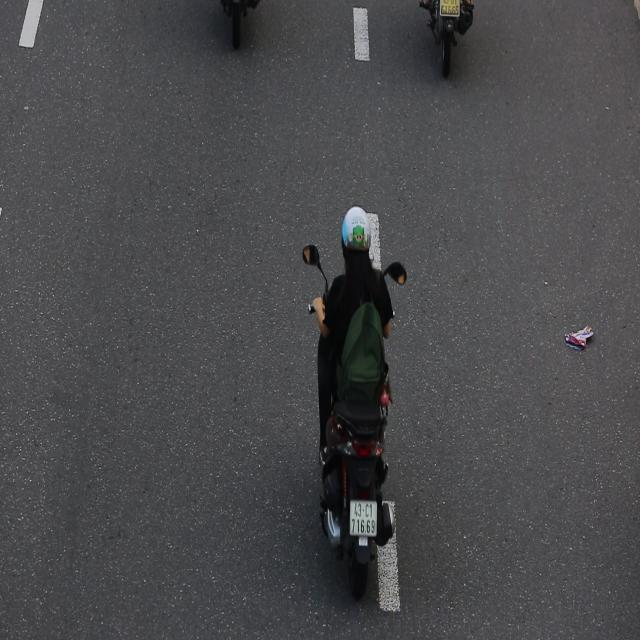motorbike: (293, 198, 410, 604)
